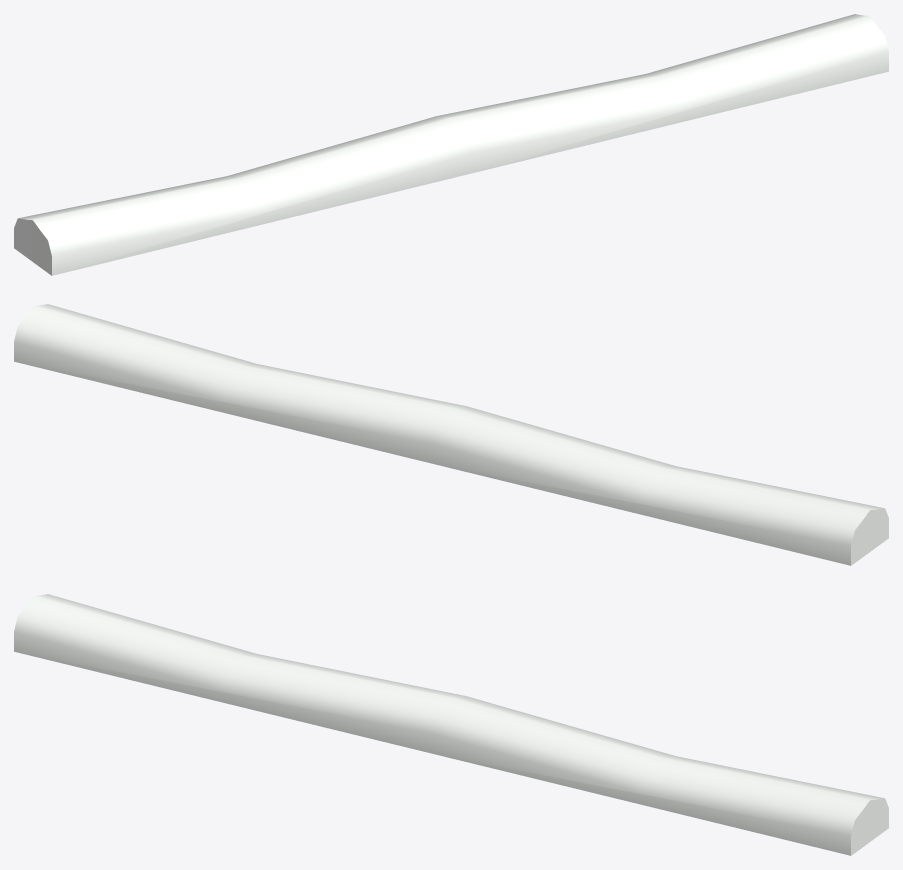
Rendered from SnowmobileTrackBarrier.glb.
3 views of the same model, one above another, from view 1: azimuth 30°, elevation 25°; view 2: azimuth 150°, elevation 25°; view 3: azimuth 330°, elevation 25° (orthographic).
Visible parts, largest first — view 1: SnowmobileTrackBarrier; view 2: SnowmobileTrackBarrier; view 3: SnowmobileTrackBarrier.
Part boxes in pixels (x1,y1,x2,y2): SnowmobileTrackBarrier: (14,14,888,275); SnowmobileTrackBarrier: (14,304,888,565); SnowmobileTrackBarrier: (14,594,888,855).
Bounding box in the file's own units: 8 × 0.3824 × 0.6262.
Materials: 1 (1 with a texture image).
